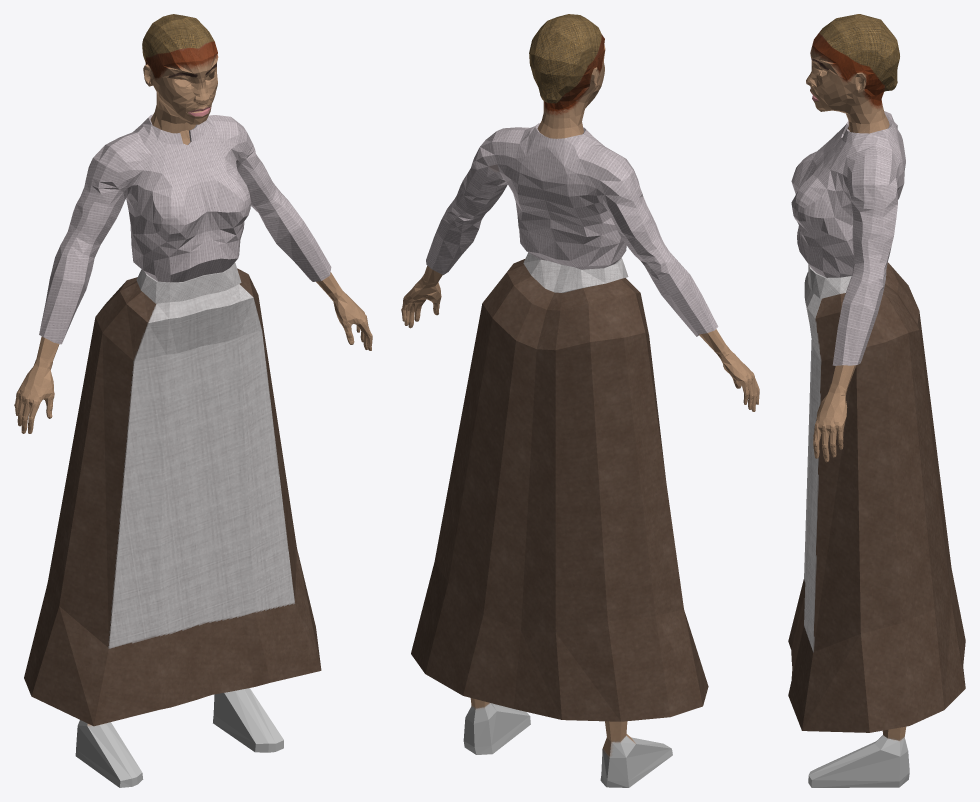
Rendered from Nohuesos.fbx.
3 renders of one model, left to right at view 1: azimuth 30°, elevation 25°; view 2: azimuth 150°, elevation 25°; view 3: azimuth 270°, elevation 25°, orthographic.
Visible parts, largest first — view 1: humasn_body_obj_2_1; view 2: humasn_body_obj_2_1; view 3: humasn_body_obj_2_1.
Part boxes in pixels (<box>): humasn_body_obj_2_1: <box>14,14,372,787</box>; humasn_body_obj_2_1: <box>401,14,759,787</box>; humasn_body_obj_2_1: <box>788,14,965,787</box>.
Bounding box in the file's own units: 79.45 × 160 × 35.17.
2 materials, 1 textured.
